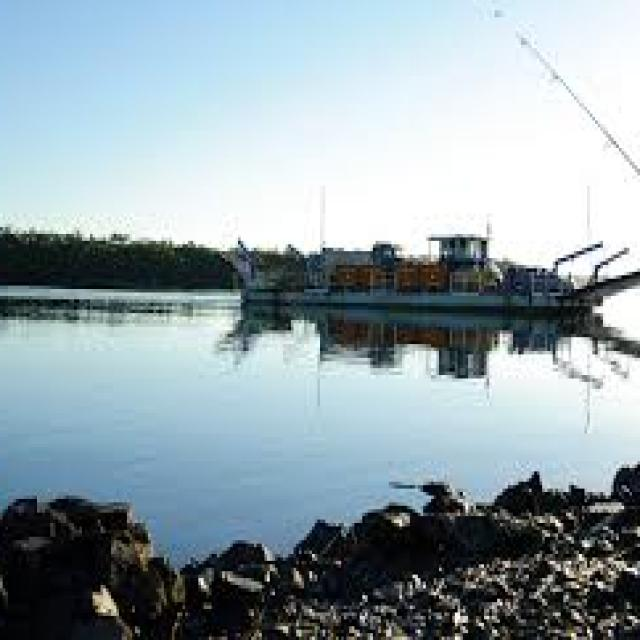fishing boat: (219, 212, 625, 306)
